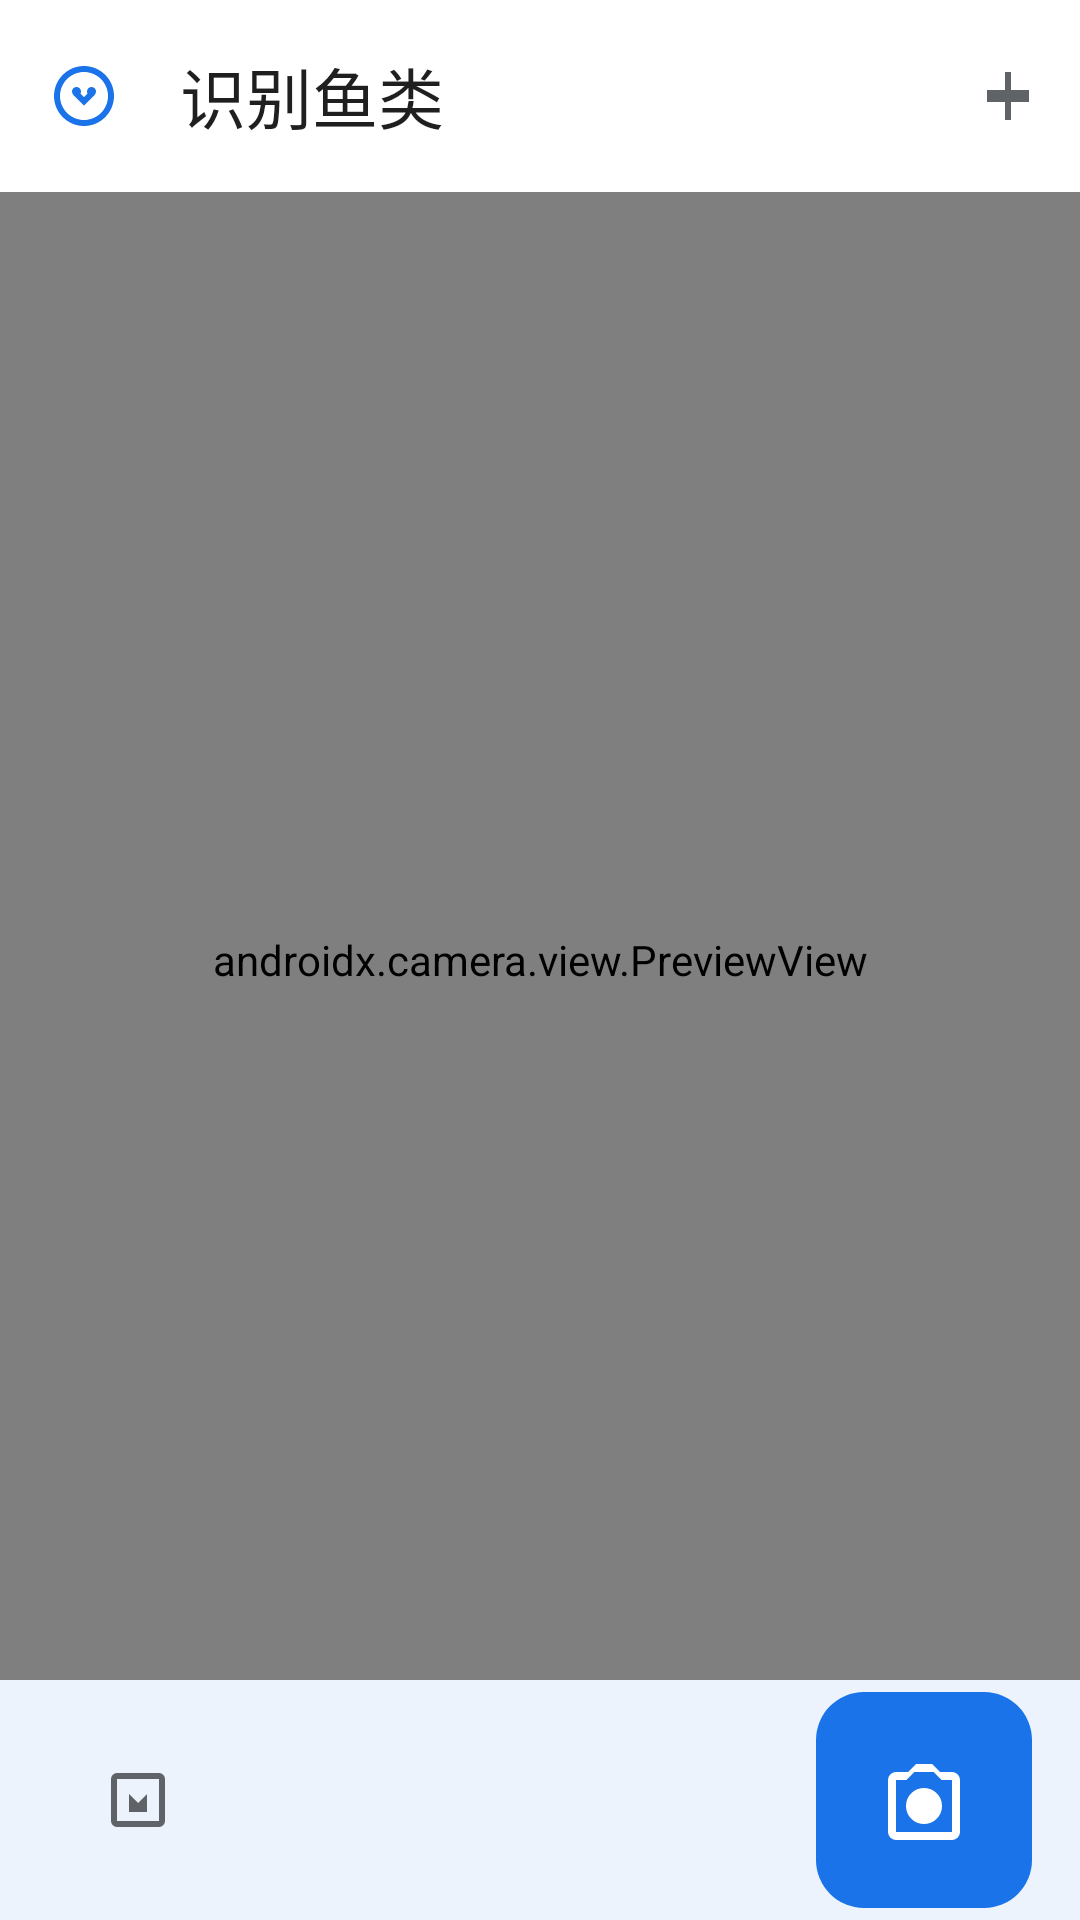

Where icons sit on this 1080×1920 app screen, as bbox(x1, y1, x2, y2):
相册: bbox(111, 1773, 165, 1827)
